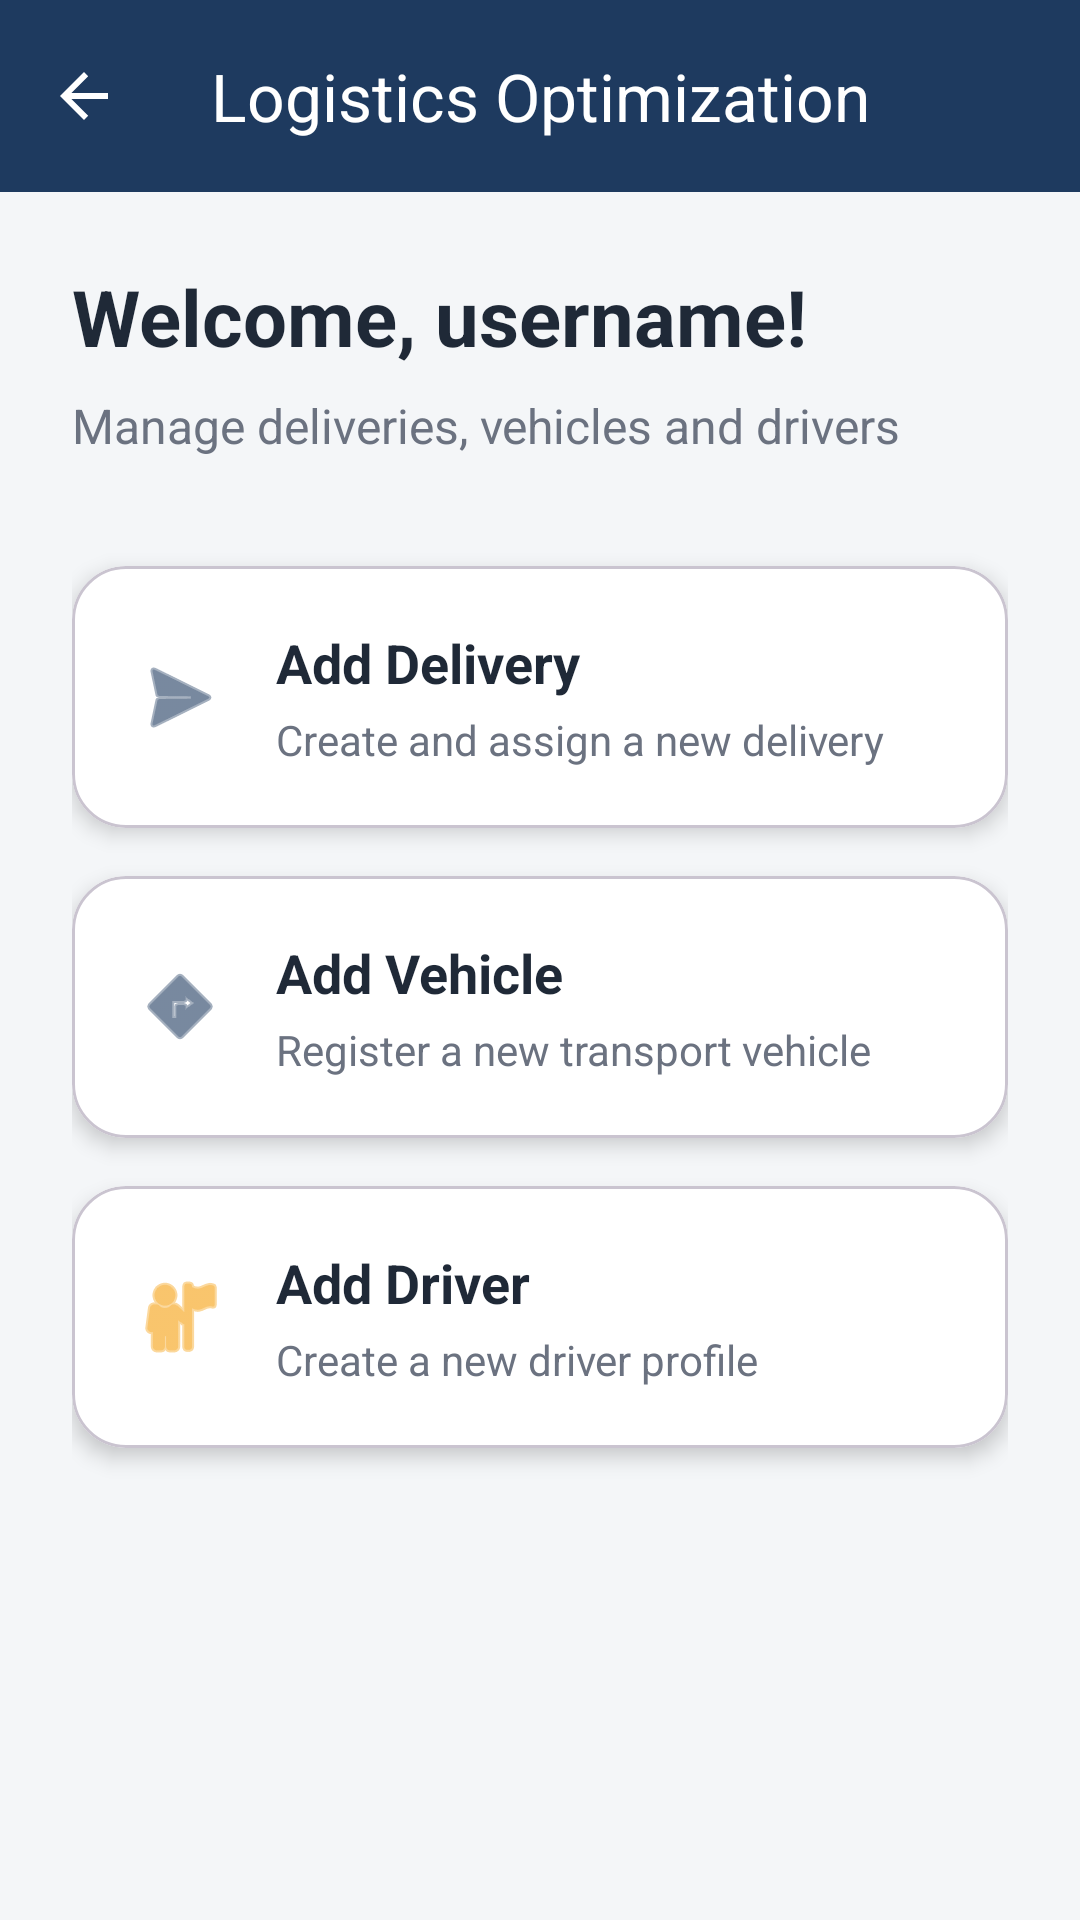

Icons on this 1080px×1920px Android screen, each with the point to tap as (x=x, y=y):
directions: (x=180, y=1006)
send: (x=181, y=697)
